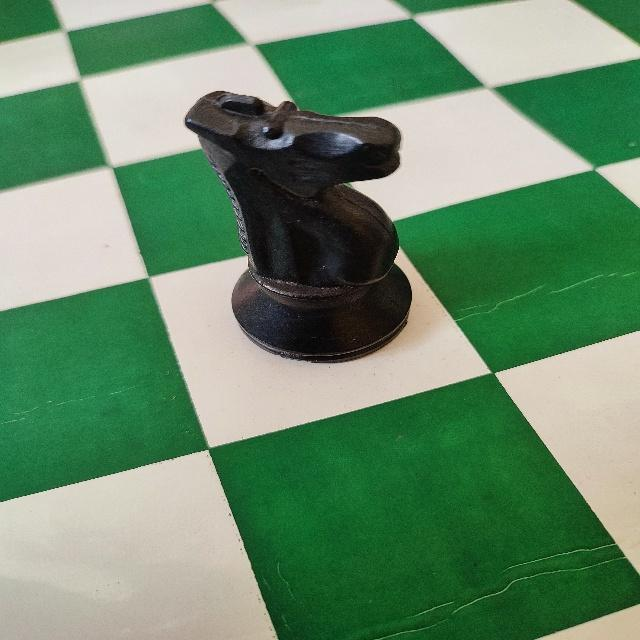Knight: (179, 84, 417, 366)
